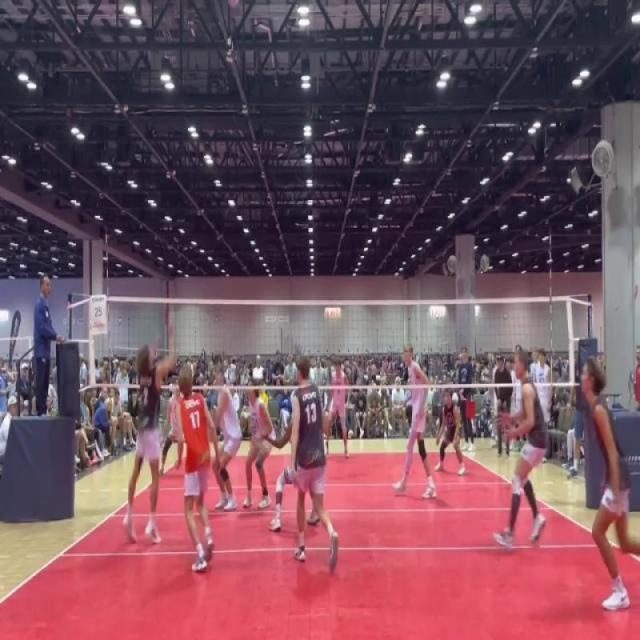volleyball: (226, 1, 242, 10)
